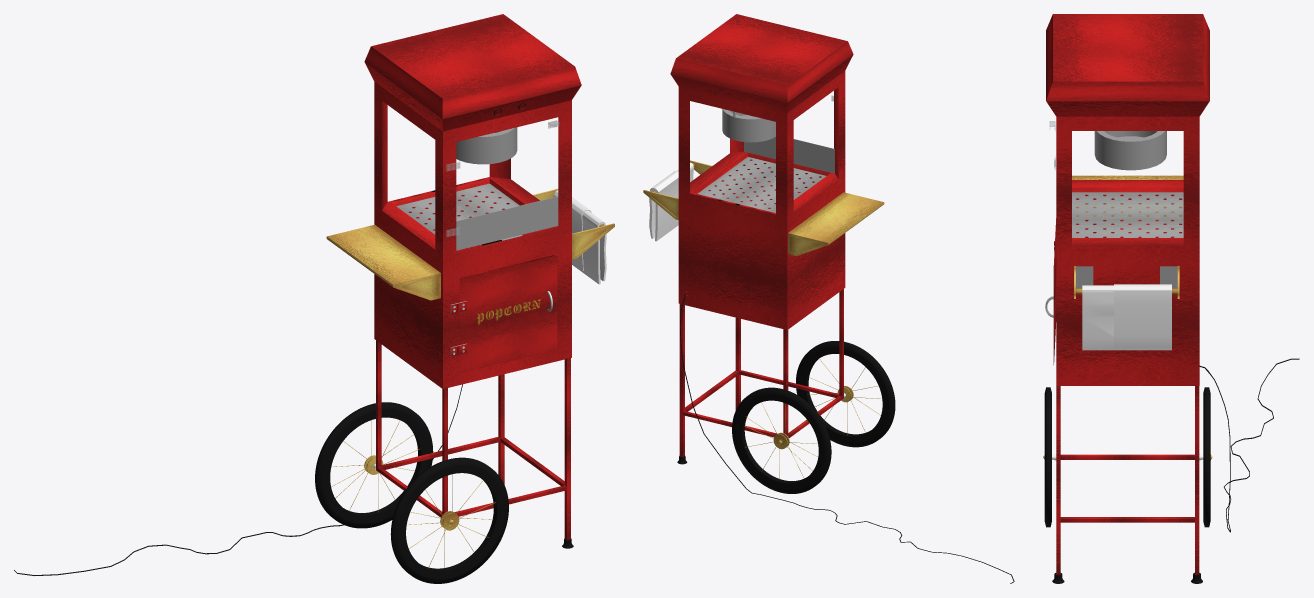
File: popcorn_machine.glb
3 renders of one model, left to right at view 1: azimuth 30°, elevation 25°; view 2: azimuth 150°, elevation 25°; view 3: azimuth 270°, elevation 25°, orthographic. The views are drawn at different scales.
Visible parts, largest first — view 1: Box002, Box014, Box001, Tube002, Tube003, Box009, Box012, Cylinder042, Box017; view 2: Box002, Box001, Tube003, Tube002, Box009, Box012, Cylinder042, Box017, Cylinder056, Box011; view 3: Box002, Box017, Box001, Cylinder042, Tube003, Tube002, Box009, Cylinder056, Box014, Box024, Box023.
Part boxes in pixels (x1,y1,x2,y2): Box002: (364, 14, 581, 388); Box014: (450, 255, 557, 372); Box001: (376, 340, 570, 540); Tube002: (390, 457, 508, 583); Tube003: (315, 402, 433, 528); Box009: (326, 224, 440, 300); Box012: (456, 196, 558, 250); Cylinder042: (456, 127, 517, 164); Box017: (553, 190, 606, 284); Box002: (670, 14, 853, 329); Box001: (679, 289, 843, 457); Tube003: (732, 387, 831, 493); Tube002: (796, 341, 895, 447); Box009: (788, 192, 884, 256); Box012: (744, 137, 834, 173); Cylinder042: (722, 109, 775, 142); Box017: (649, 162, 693, 241); Cylinder056: (680, 293, 1014, 583); Box011: (643, 190, 678, 219); Box002: (1046, 14, 1209, 385); Box017: (1082, 284, 1171, 350); Box001: (1056, 386, 1199, 574); Cylinder042: (1094, 131, 1166, 170); Tube003: (1203, 387, 1210, 527); Tube002: (1044, 387, 1051, 527); Box009: (1072, 175, 1183, 216); Cylinder056: (1199, 358, 1299, 532); Box014: (1045, 218, 1056, 364); Box024: (1076, 266, 1093, 291); Box023: (1160, 266, 1177, 288).
Bounding box in the file's own units: 7.65 × 7.15 × 3.28.
9 materials, 7 textured.
